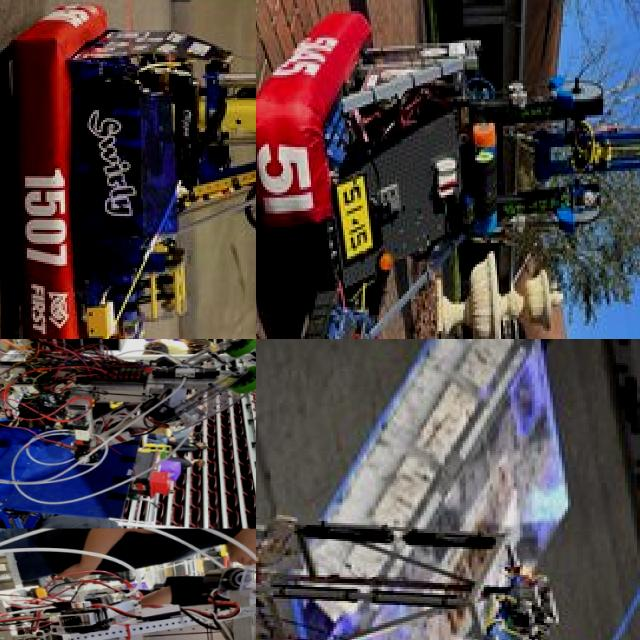FRC-Robots: (256, 0, 640, 339), (0, 0, 256, 339), (256, 496, 621, 640), (0, 339, 256, 504), (0, 512, 256, 640)
